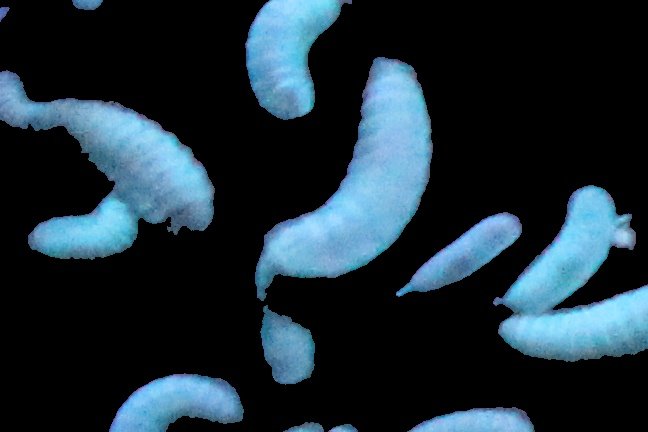larvae: (261, 57, 429, 271), (1, 71, 217, 229), (499, 187, 615, 312), (246, 1, 349, 120), (394, 208, 524, 297), (494, 289, 648, 364), (103, 365, 247, 432), (259, 266, 327, 383), (23, 204, 136, 273), (407, 398, 538, 432)
